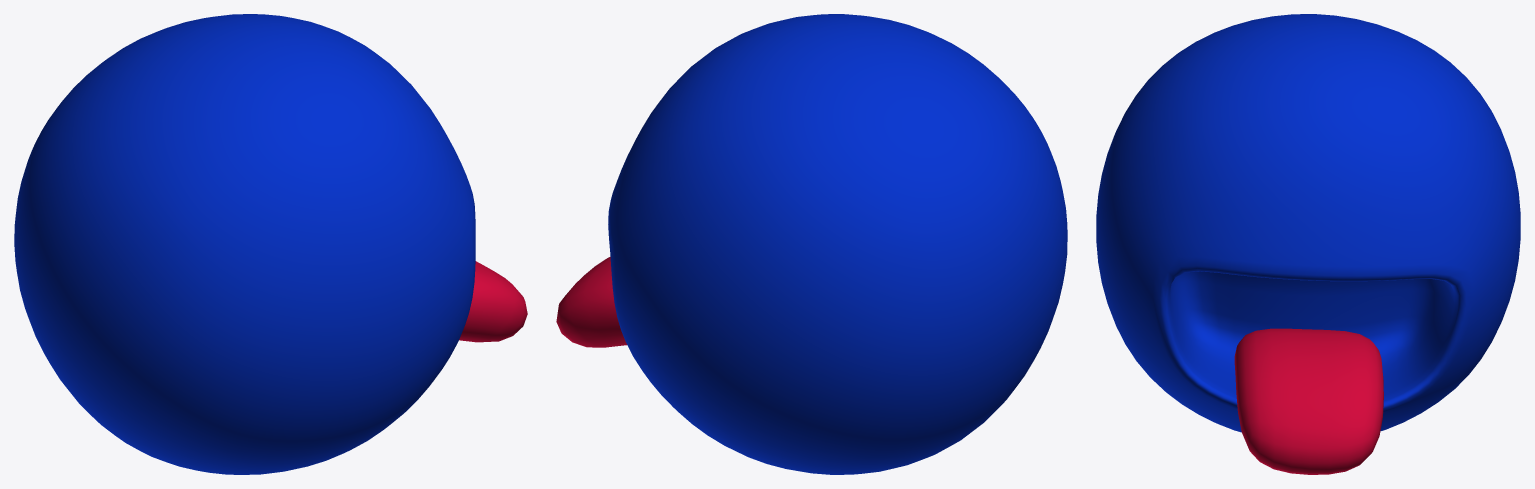
The picture shows the model from 3 angles, left to right: view 1: azimuth 30°, elevation 25°; view 2: azimuth 150°, elevation 25°; view 3: azimuth 270°, elevation 25°; orthographic projection. The views are drawn at different scales.
Parts seen in each view (by area): view 1: Cube.011; view 2: Cube.011; view 3: Cube.011.
Boxes of the visible parts, x1=… form: Cube.011: x1=14, y1=14, x2=527, y2=474; Cube.011: x1=556, y1=14, x2=1067, y2=474; Cube.011: x1=1096, y1=14, x2=1520, y2=474.
Bounding box in the file's own units: 1.74 × 1.49 × 1.47.
